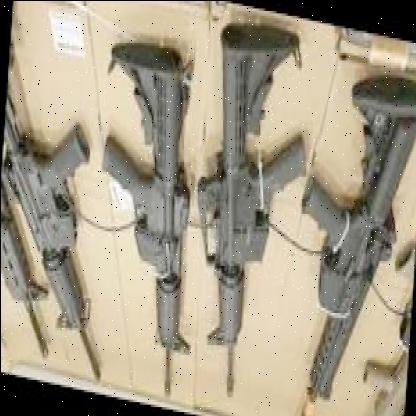rifle: (183, 15, 315, 416), (89, 27, 206, 409)
